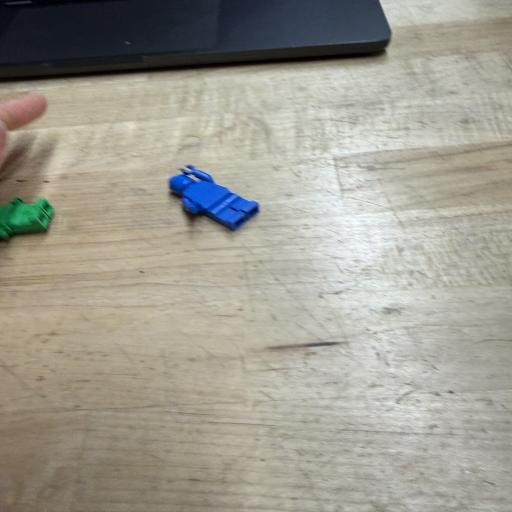blue-minifig: (170, 165, 259, 230)
green-minifig: (0, 198, 54, 240)
